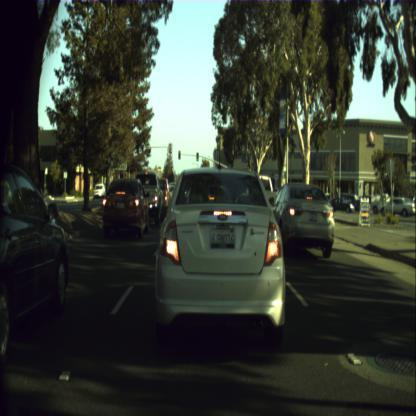Green: (196, 152, 198, 161)
RedLeft: (178, 150, 180, 159)
